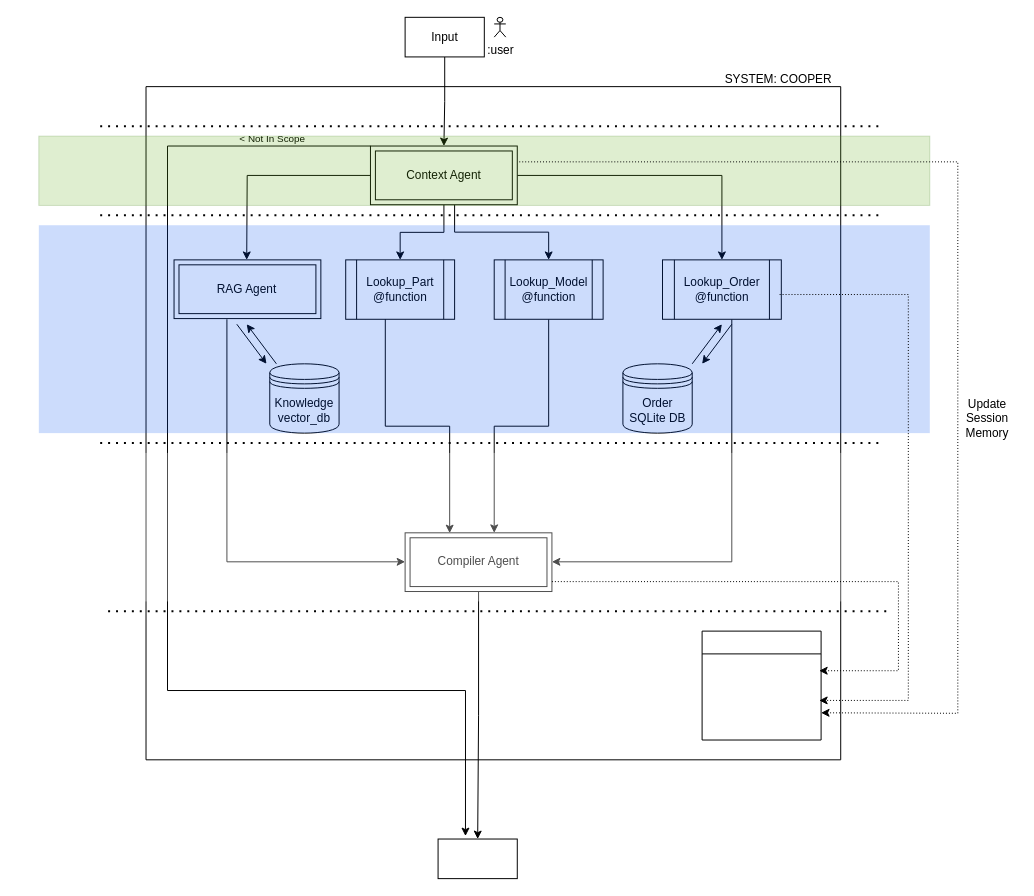
Image size: 1034x896. Some labels were removed from this diagram. Each missing label, with the centre of its shape:
"COMPILER LAYER" belongs at pixel 483 526.
"CONTEXT LAYER" belongs at pixel 484 170.
"DATA LAYER" belongs at pixel 483 329.
"Output" belongs at pixel 477 858.
"session_memory" belongs at pixel 761 685.
